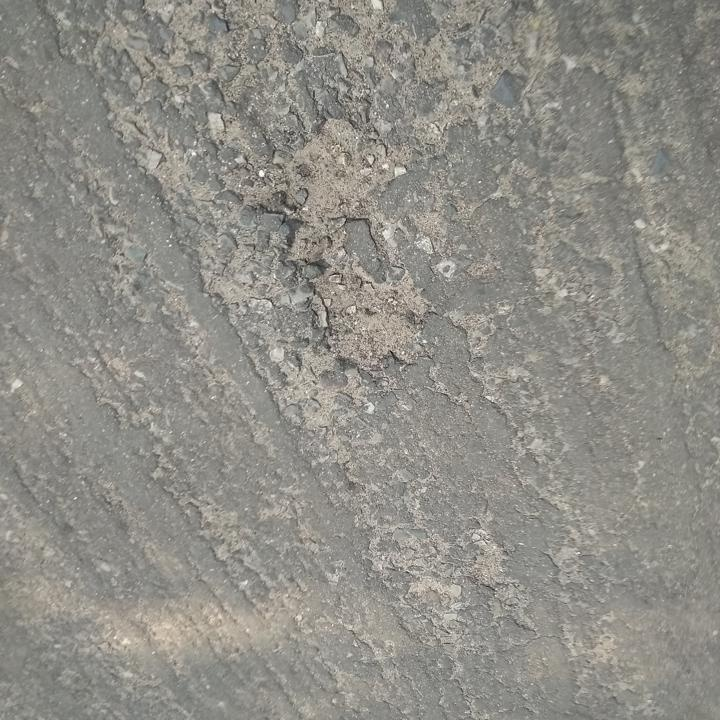pothole: (256, 117, 422, 372)
